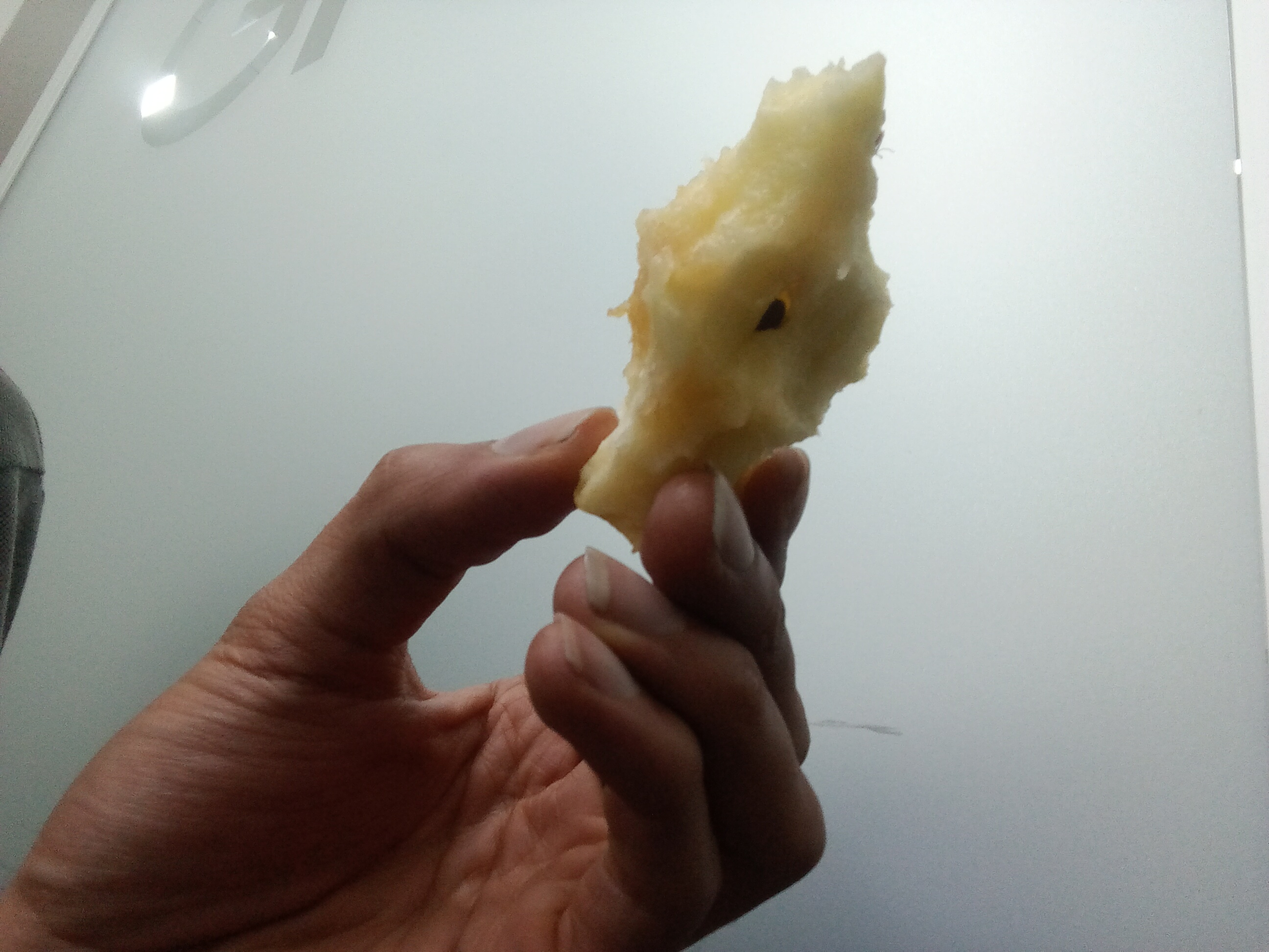Organico: (573, 53, 892, 552)
